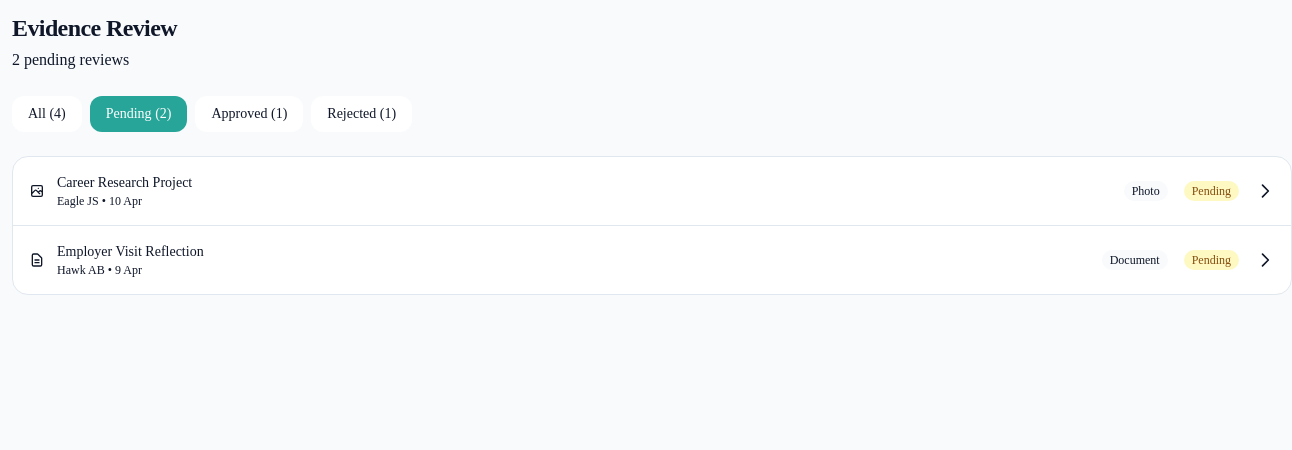
it: EvidenceQueuePage › filtering › shows all items when All tab clicked
The image size is (1292, 450).
Click the button "All (4)": coordinates (47, 114) [12,96,82,132]
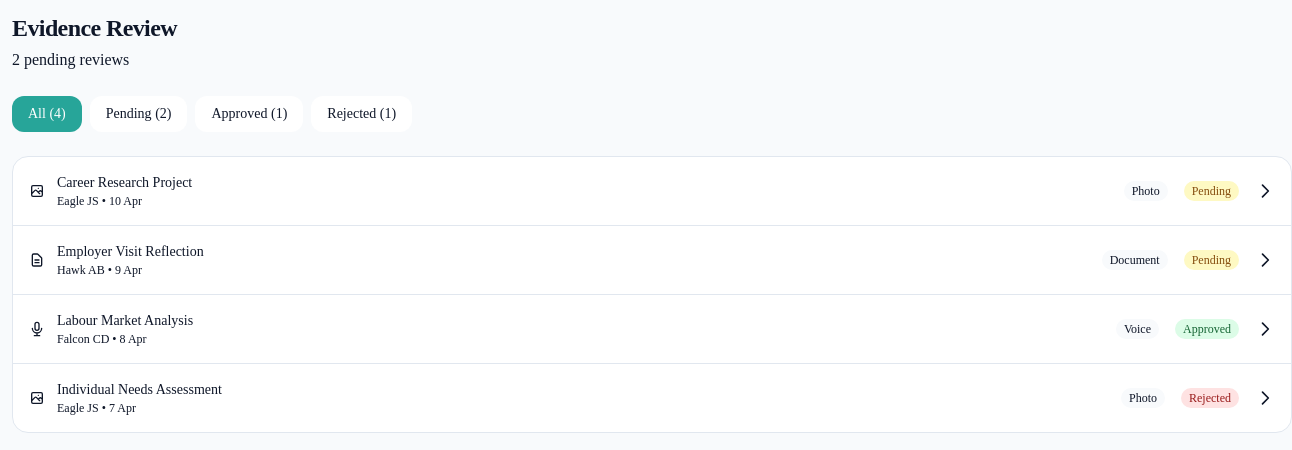
Check: the number of list items is 4, box [29,175,1275,208]; [13,225,1291,294]; [13,294,1291,363]; [13,363,1291,432]
